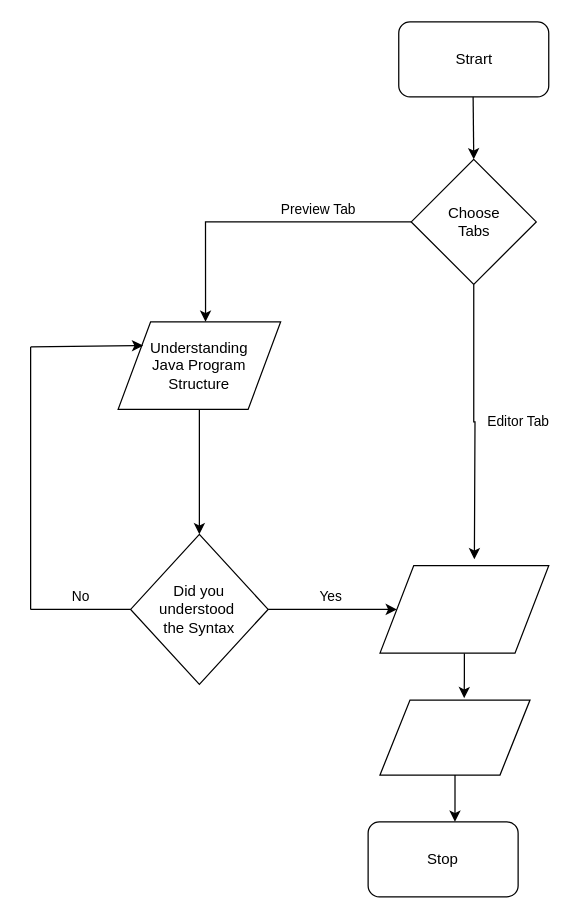
Some shapes in this 571 by 919 pixel diagram are drawn without their labels. Each missing label, with the box of its shape:
Preview Result: (379, 699, 530, 775)
Write your Own Java Program: (379, 564, 549, 653)
